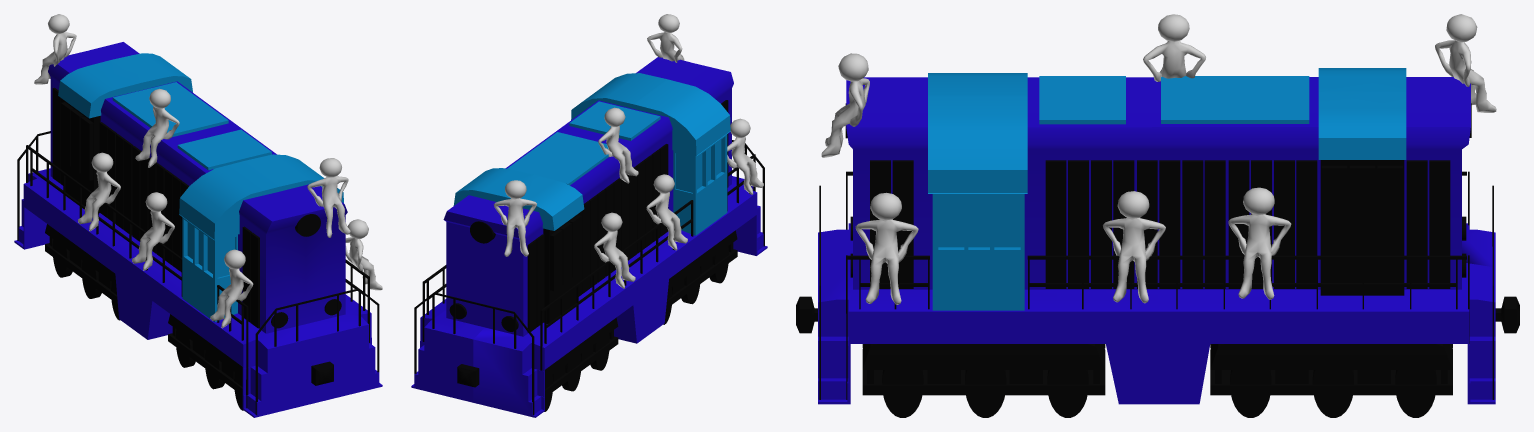
File: IndiaFinal2.fbx
3 views of the same model, side by side, from view 1: azimuth 30°, elevation 25°; view 2: azimuth 150°, elevation 25°; view 3: azimuth 270°, elevation 25° (orthographic). The views are drawn at different scales.
Visible parts, largest first — view 1: Куб_009_Куб_043, Char_Model_remesh_8, Char_Model_remesh_7, Char_Model_remesh_3, Char_Model_remesh_1, Char_Model_remesh_2, Char_Model_remesh, Char_Model_remesh_6; view 2: Куб_009_Куб_043, Char_Model_remesh, Char_Model_remesh_2, Char_Model_remesh_1, Char_Model_remesh_7, Char_Model_remesh_3, Char_Model_remesh_8; view 3: Куб_009_Куб_043, Char_Model_remesh_4, Char_Model_remesh_5, Char_Model_remesh_6, Char_Model_remesh, Char_Model_remesh_8, Char_Model_remesh_7.
Part boxes in pixels (x1,y1,x2,y2): Куб_009_Куб_043: [14, 42, 382, 417]; Char_Model_remesh_8: [307, 158, 350, 237]; Char_Model_remesh_7: [135, 88, 179, 167]; Char_Model_remesh_3: [210, 249, 253, 328]; Char_Model_remesh_1: [78, 152, 120, 231]; Char_Model_remesh_2: [132, 192, 174, 270]; Char_Model_remesh: [34, 14, 76, 84]; Char_Model_remesh_6: [345, 219, 382, 290]; Куб_009_Куб_043: [411, 57, 767, 417]; Char_Model_remesh: [493, 180, 536, 256]; Char_Model_remesh_2: [646, 174, 687, 250]; Char_Model_remesh_1: [594, 212, 635, 288]; Char_Model_remesh_7: [598, 107, 638, 183]; Char_Model_remesh_3: [727, 118, 763, 194]; Char_Model_remesh_8: [647, 14, 684, 62]; Куб_009_Куб_043: [796, 68, 1519, 417]; Char_Model_remesh_4: [1228, 187, 1291, 299]; Char_Model_remesh_5: [1103, 191, 1165, 303]; Char_Model_remesh_6: [855, 192, 918, 304]; Char_Model_remesh: [1435, 14, 1496, 112]; Char_Model_remesh_8: [821, 53, 869, 157]; Char_Model_remesh_7: [1143, 14, 1205, 81].
Size of the model in its own units: 266 by 387 by 730.
